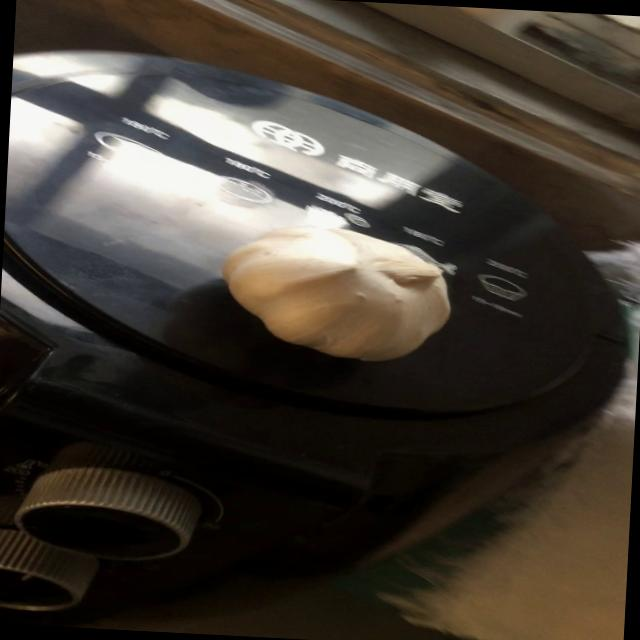bawang: (214, 222, 462, 364)
